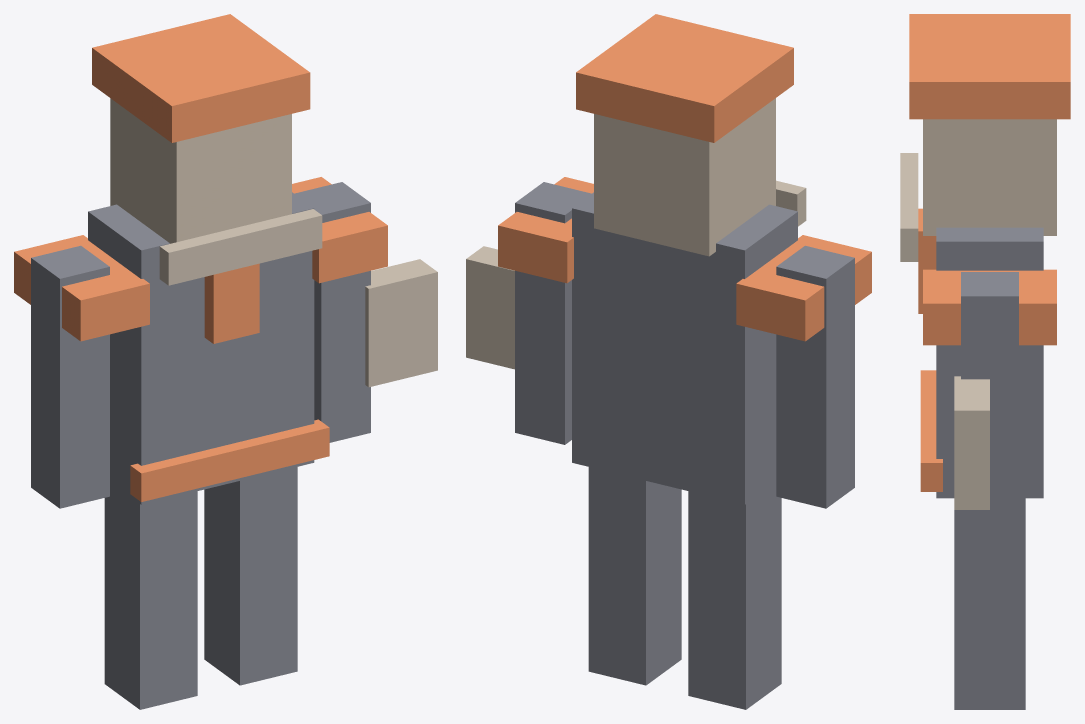
Rendered from 07_astra_whispercoil_mechanist_from_stabilizer.glb.
3 views of the same model, side by side, from view 1: azimuth 30°, elevation 25°; view 2: azimuth 150°, elevation 25°; view 3: azimuth 270°, elevation 25° (orthographic).
Visible parts, largest first — view 1: Astra Whispercoil, Mechanist from Stabilizer; view 2: Astra Whispercoil, Mechanist from Stabilizer; view 3: Astra Whispercoil, Mechanist from Stabilizer.
Boxes of the visible parts, x1,y1,x2,y2 form: Astra Whispercoil, Mechanist from Stabilizer: (14, 14, 437, 709); Astra Whispercoil, Mechanist from Stabilizer: (466, 14, 871, 709); Astra Whispercoil, Mechanist from Stabilizer: (900, 14, 1070, 709).
Size of the model in its own units: 1.04 by 1.64 by 0.4047.
